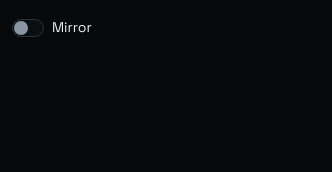
Scenario: Toggle › flips aria-checked
The image size is (332, 172).
Click the switch labelled "Mirror" at (52, 28), box [12,12,92,44]
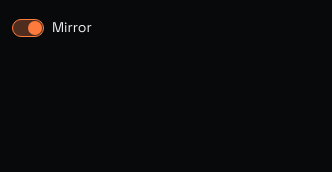
Now the switch labelled "Mirror" is checked, box [12,12,92,44]
